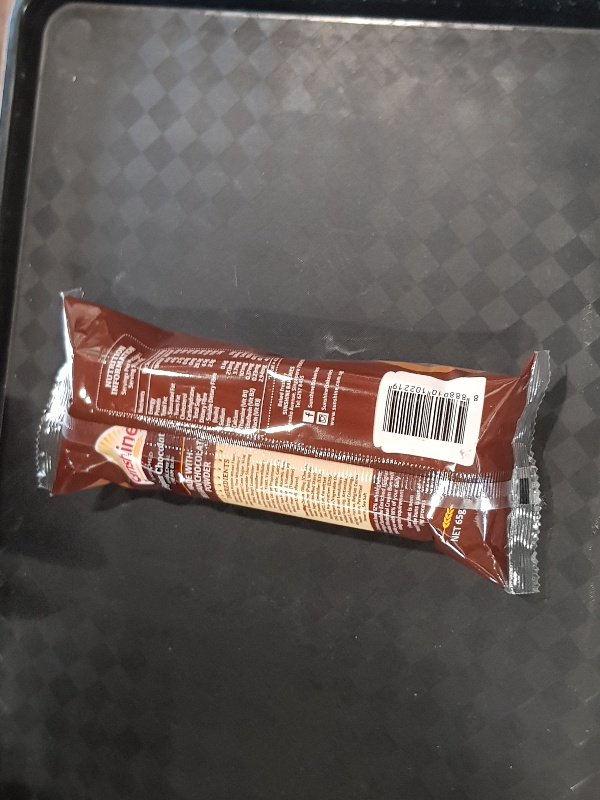Sunshine Belgium Chocolate Wholemeal Cream Bun: (34, 285, 553, 596)
